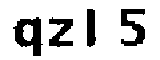5: (115, 2, 151, 51)
l: (81, 6, 99, 50)
q: (12, 16, 47, 60)
z: (48, 16, 76, 49)
